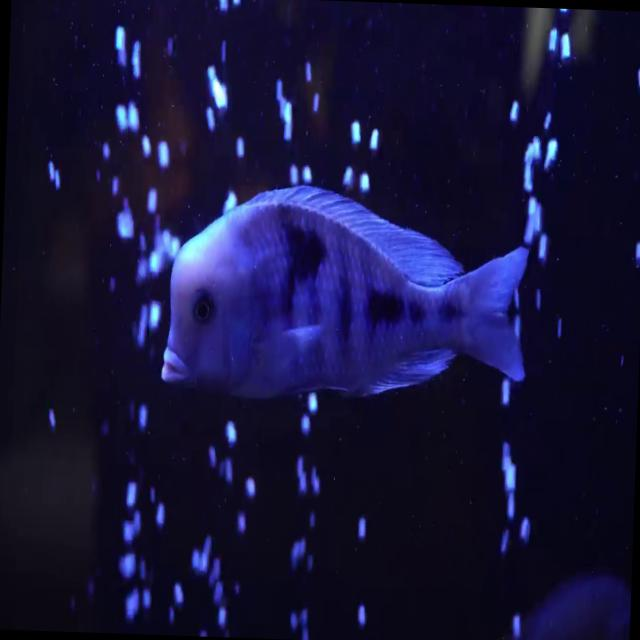fish: (161, 174, 536, 406)
